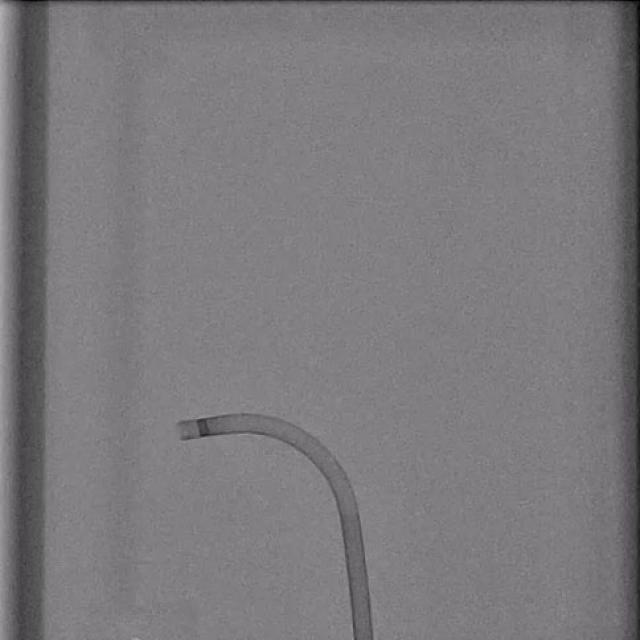bend: (336, 501, 359, 515)
entry: (353, 634, 374, 640)
marker: (195, 418, 213, 437)
tip: (178, 422, 187, 441)
